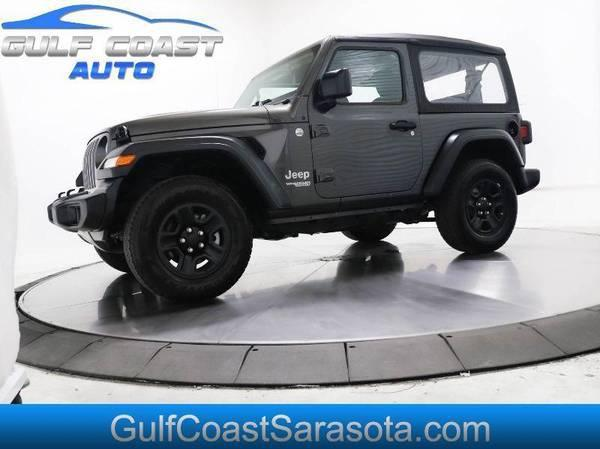Front_Bumper: (46, 131, 119, 231)
Front_Fender: (99, 97, 321, 219)
Front_Left_Door: (310, 103, 422, 218)
Front_Left_Window: (313, 43, 419, 104)
Front_Windshield: (235, 42, 324, 109)
Rear_Fender: (408, 45, 525, 208)
Roof: (295, 32, 522, 110)
Wheel: (123, 182, 251, 309), (443, 161, 528, 255)
